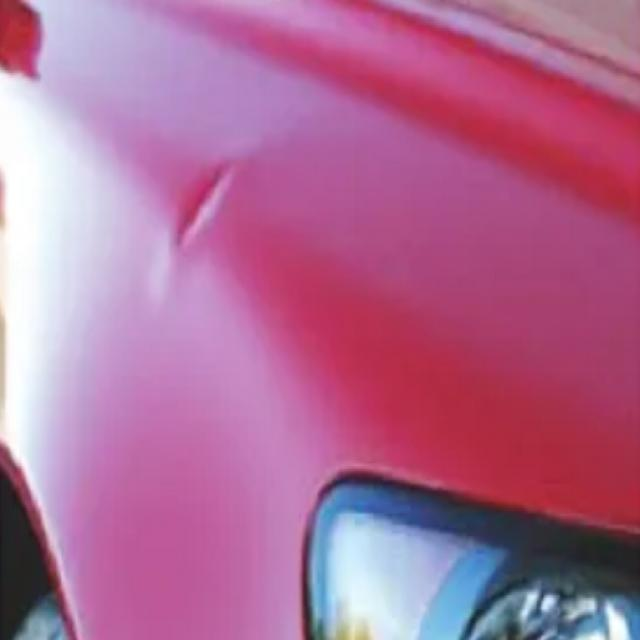dents: (144, 147, 284, 283)
